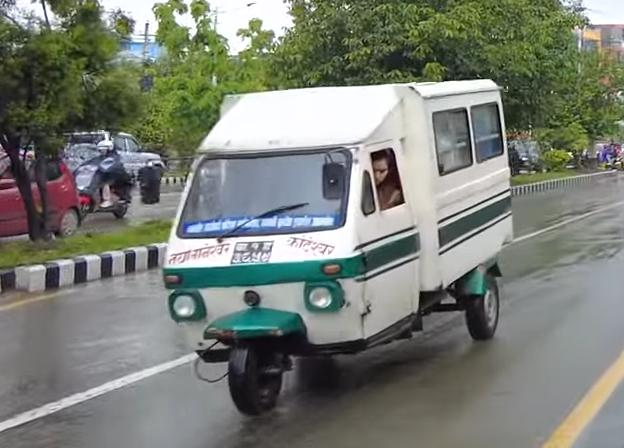car: (0, 147, 83, 246)
scooter: (73, 159, 133, 224)
tempo: (163, 69, 519, 423)
